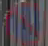No waiting: (4, 5, 46, 45)
